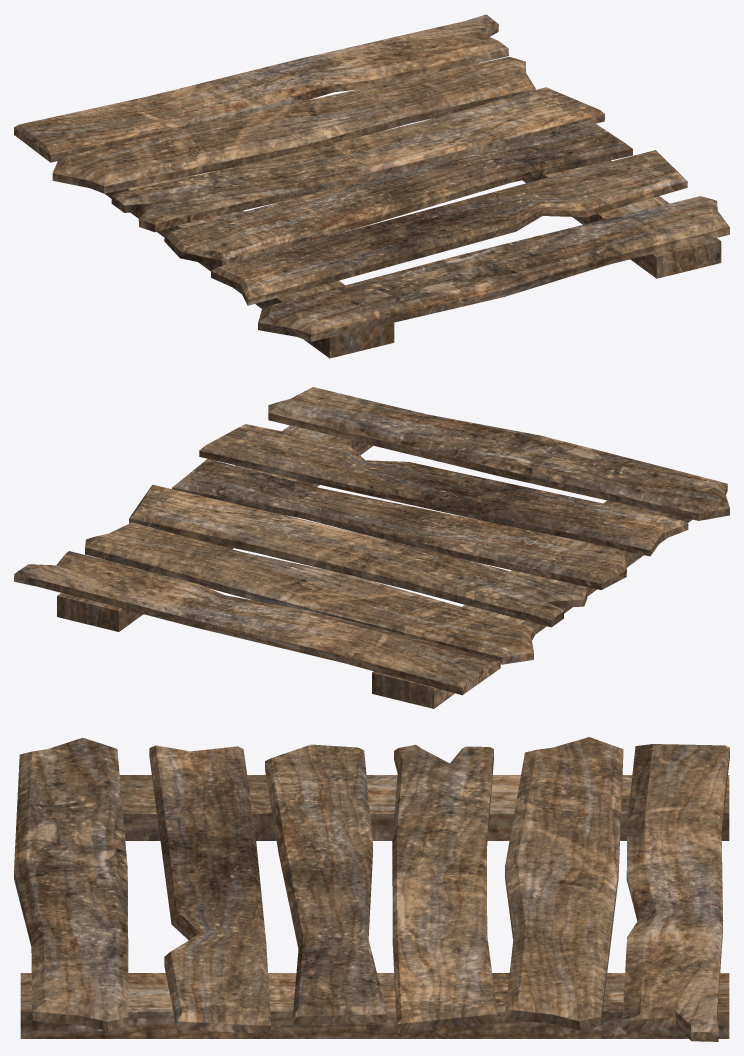
The model's file is Bridge_5.fbx.
3 views of the same model, one above another, from view 1: azimuth 30°, elevation 25°; view 2: azimuth 150°, elevation 25°; view 3: azimuth 270°, elevation 25° (orthographic). The views are drawn at different scales.
Visible parts, largest first — view 1: Bridge_5; view 2: Bridge_5; view 3: Bridge_5.
Part boxes in pixels (x1,y1,x2,y2): Bridge_5: (14, 14, 729, 358); Bridge_5: (14, 387, 729, 708); Bridge_5: (14, 737, 729, 1041).
Size of the model in its own units: 3.45 by 0.2327 by 3.54.
Materials: 1 (1 with a texture image).
